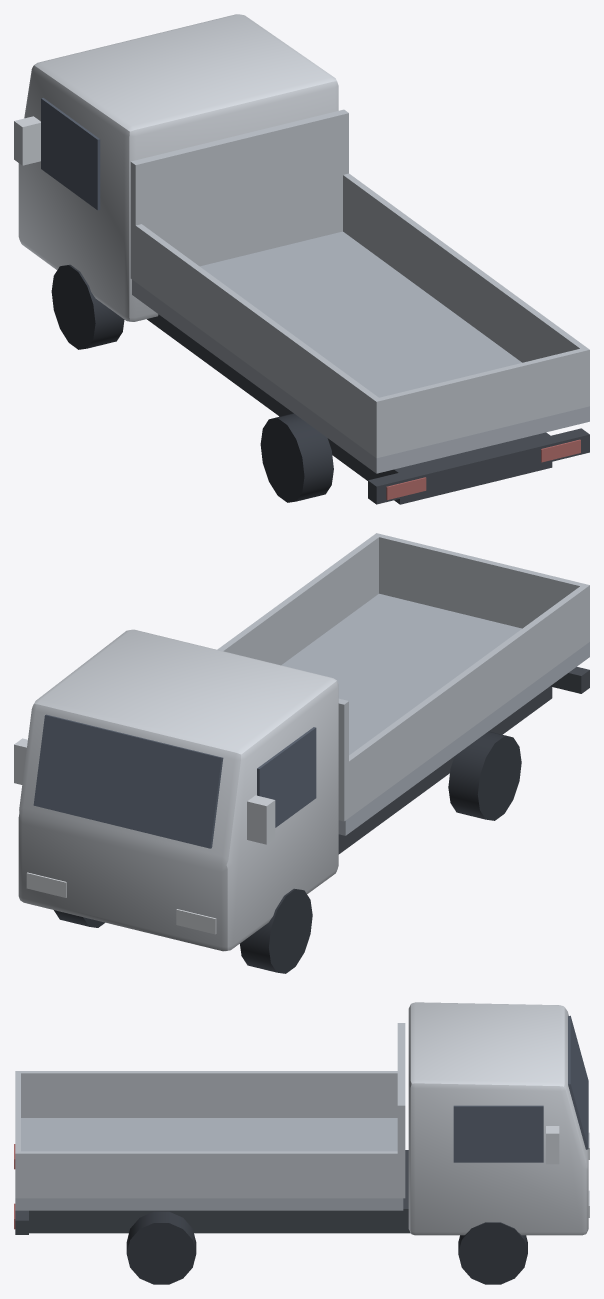
The model's file is truck.glb.
The picture shows the model from 3 angles, top to bottom: view 1: azimuth 30°, elevation 25°; view 2: azimuth 150°, elevation 25°; view 3: azimuth 270°, elevation 25°; orthographic projection. The views are drawn at different scales.
Parts seen in each view (by area): view 1: Body; view 2: Body; view 3: Body.
Part boxes in pixels (left/top/right/bottom): Body: left=14, top=14, right=589, bottom=504; Body: left=14, top=533, right=589, bottom=973; Body: left=14, top=1002, right=589, bottom=1284.
Bounding box in the file's own units: 2.06 × 1.98 × 5.12.
